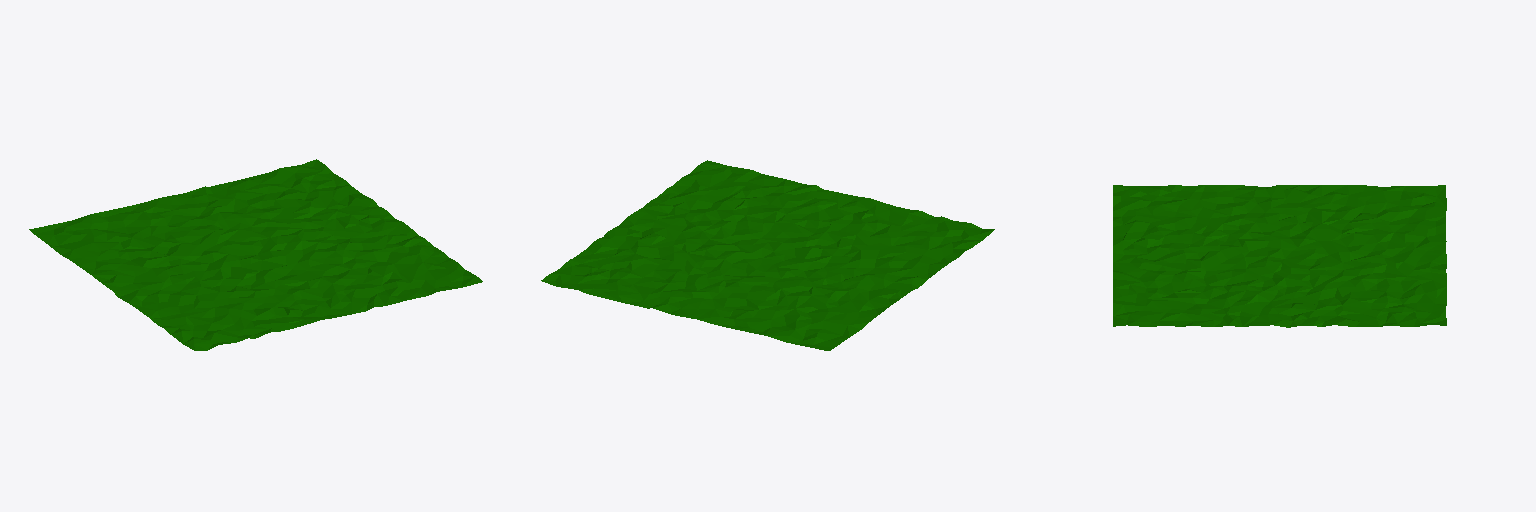
Rendered from Terrain.mtl.obj.
3 renders of one model, left to right at view 1: azimuth 30°, elevation 25°; view 2: azimuth 150°, elevation 25°; view 3: azimuth 270°, elevation 25°, orthographic.
Parts seen in each view (by area): view 1: Plane; view 2: Plane; view 3: Plane.
Part boxes in pixels (bbox=[...]): Plane: bbox=[29, 159, 482, 350]; Plane: bbox=[541, 160, 994, 350]; Plane: bbox=[1113, 185, 1446, 327].
Size of the model in its own units: 50.02 by 0.6587 by 50.03.